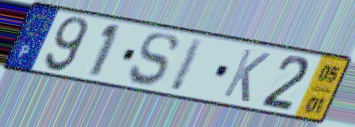1: (87, 23, 125, 79)
2: (257, 53, 311, 114)
9: (44, 15, 90, 74)
I: (166, 36, 207, 94)
K: (220, 46, 273, 105)
S: (127, 32, 181, 88)
